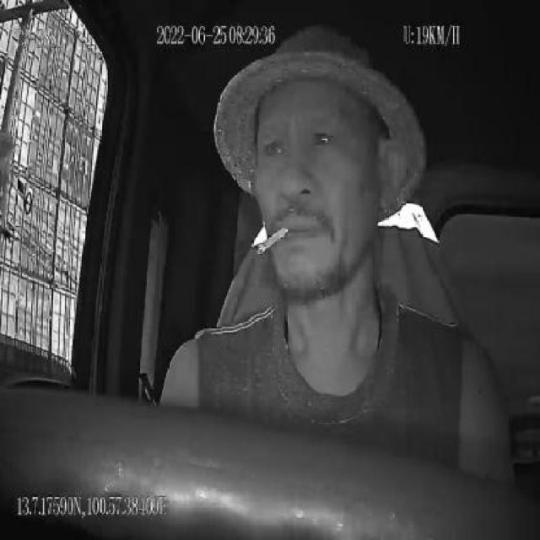smoking: (258, 226, 290, 256)
